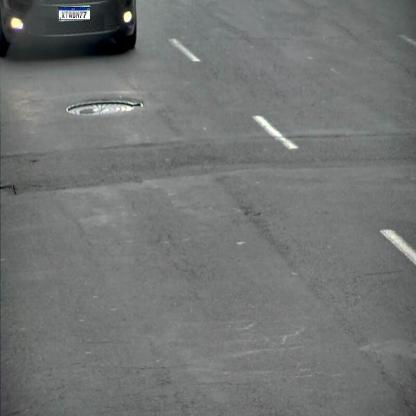PlacaM: (58, 7, 90, 20)
